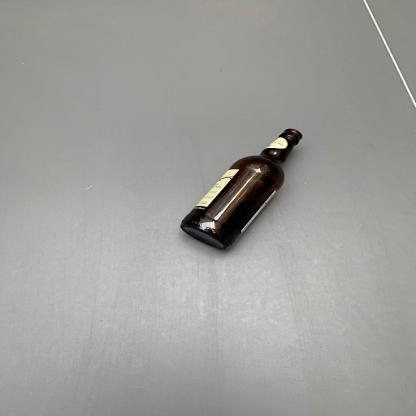trash: (177, 129, 301, 252)
